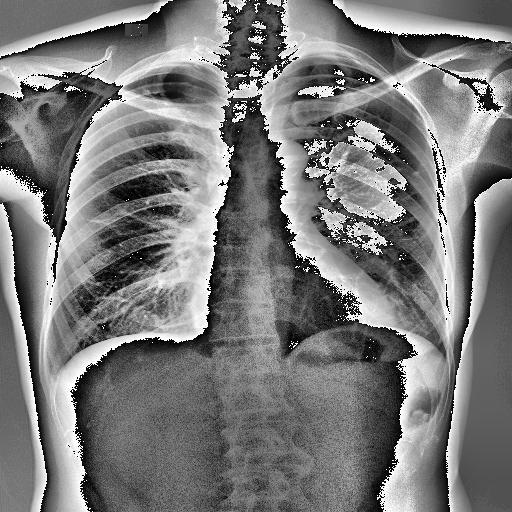10- Pleural effusion: (41, 366, 60, 386)
11- Pleural thickening: (366, 148, 424, 186), (41, 366, 60, 386)
13- Pulmonary fibrosis: (366, 148, 424, 186), (372, 152, 429, 186), (373, 150, 426, 186), (141, 88, 189, 127), (81, 216, 126, 234), (77, 216, 112, 225), (84, 218, 108, 226), (140, 87, 154, 99), (140, 89, 154, 95)
8- Nodule-Mass: (140, 89, 154, 95)
9- Other lesion: (140, 87, 154, 99)
